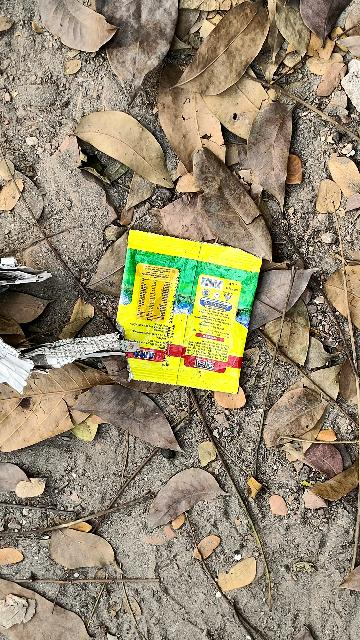packet: (106, 253, 266, 414)
